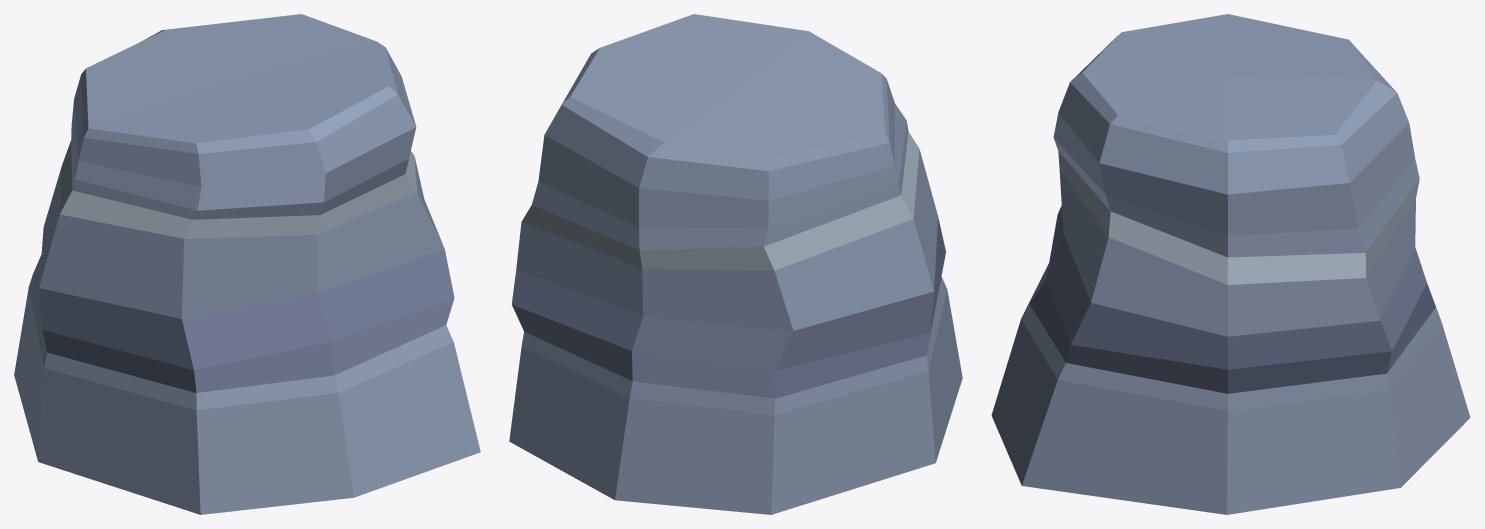
Rendered from Cliff_Tiniest.fbx.
The picture shows the model from 3 angles, left to right: view 1: azimuth 30°, elevation 25°; view 2: azimuth 150°, elevation 25°; view 3: azimuth 270°, elevation 25°; orthographic projection. The views are drawn at different scales.
Parts seen in each view (by area): view 1: Cliff_Tiniest; view 2: Cliff_Tiniest; view 3: Cliff_Tiniest.
Part boxes in pixels (x1=…): Cliff_Tiniest: x1=14, y1=14, x2=480, y2=514; Cliff_Tiniest: x1=509, y1=14, x2=962, y2=514; Cliff_Tiniest: x1=991, y1=14, x2=1470, y2=514.
Size of the model in its own units: 2.61 by 2.13 by 2.65.
